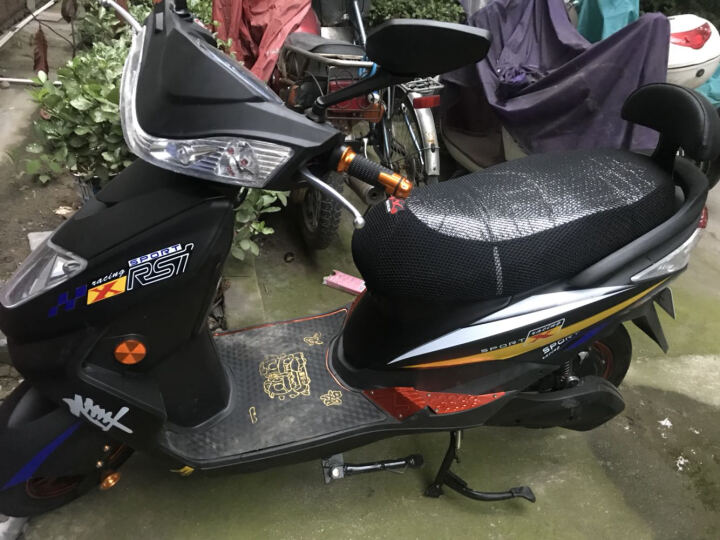电动车: (1, 3, 718, 517)
